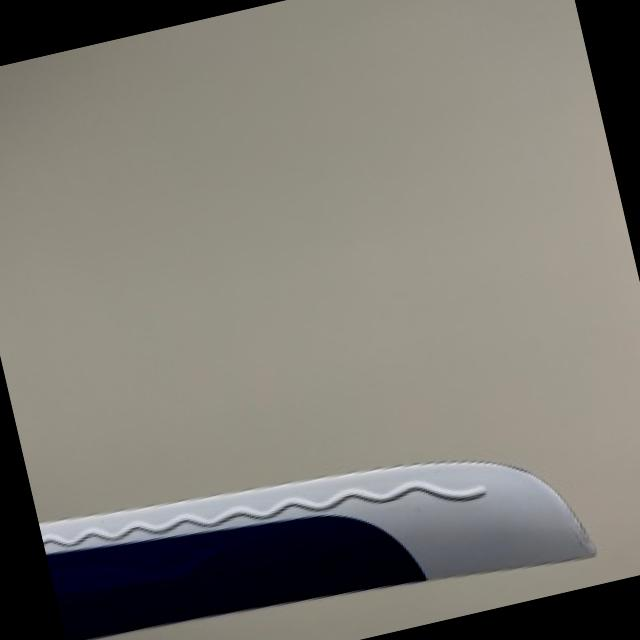healthy: (42, 459, 594, 639)
